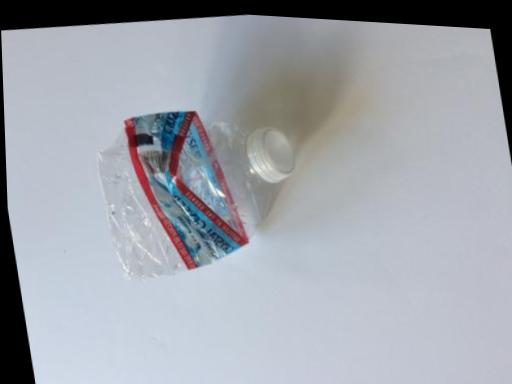plastic: (85, 88, 317, 297)
